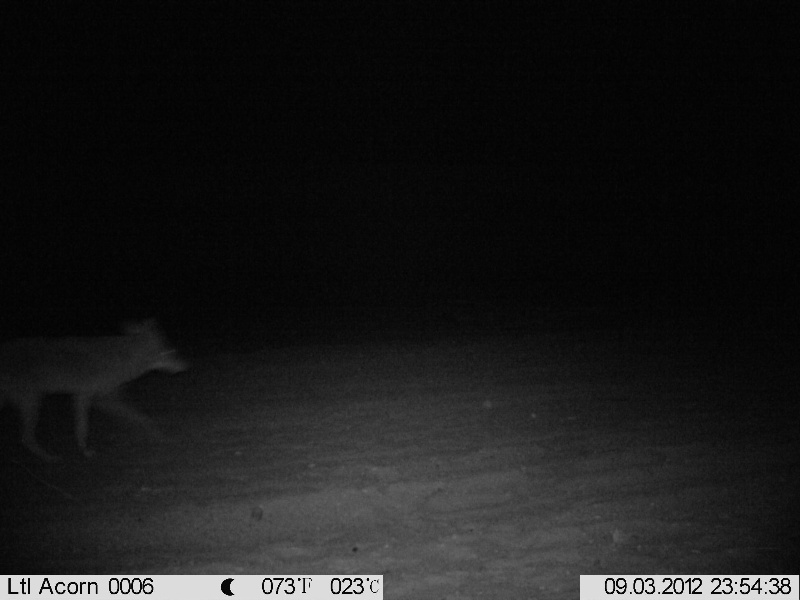coyote: (1, 317, 190, 468)
